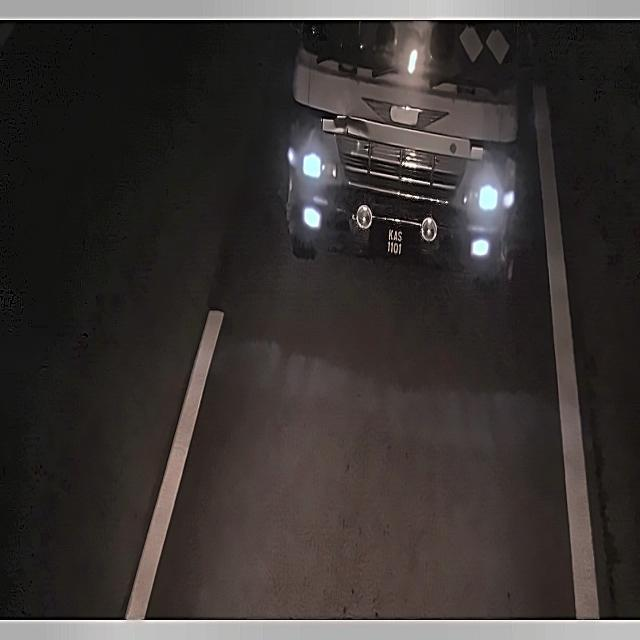car: (369, 214, 427, 268)
